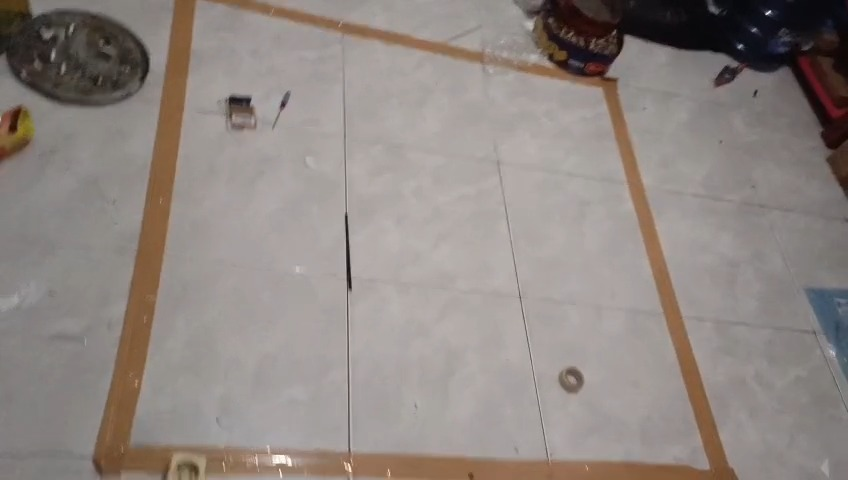floor marking: (95, 0, 737, 479), (233, 2, 486, 62)
